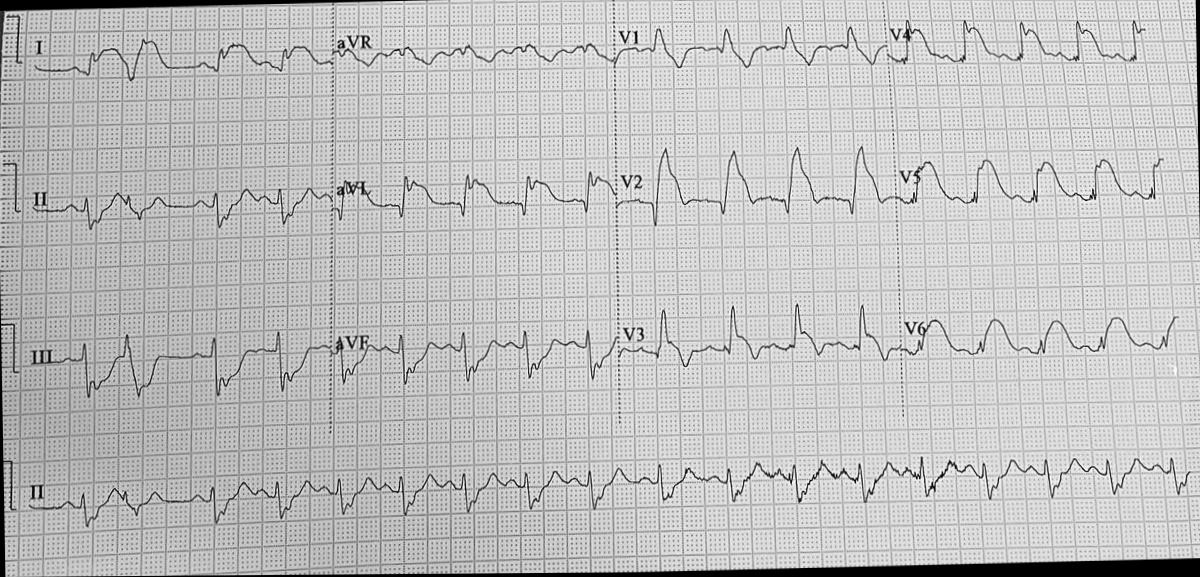Lead_I: (22, 16, 330, 110)
Lead_II: (26, 164, 333, 242)
Lead_III: (19, 313, 330, 415)
Lead_II_ext: (22, 431, 1195, 550)
Lead_V1: (612, 1, 886, 110)
Lead_V2: (613, 127, 894, 243)
Lead_V3: (614, 287, 898, 383)
Lead_V4: (880, 0, 1155, 106)
Lead_V5: (890, 129, 1173, 229)
Lead_V6: (897, 283, 1186, 379)
Lead_aVF: (329, 307, 620, 401)
Lead_aVL: (327, 146, 616, 250)
Lead_aVR: (330, 9, 615, 105)
